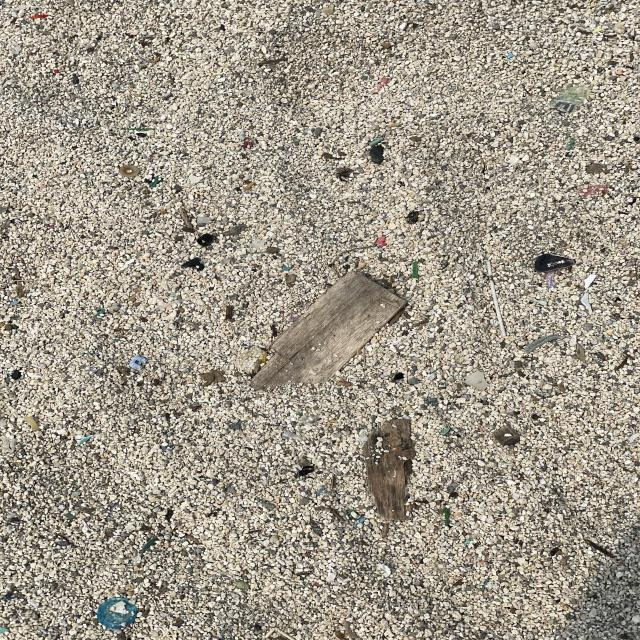plastic_waste: (99, 598, 138, 630)
wood_waste: (249, 271, 407, 393)
